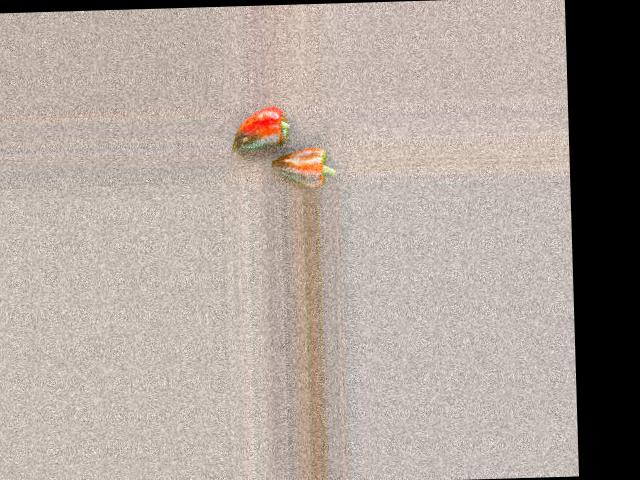bell_pepper: (227, 103, 311, 153)
